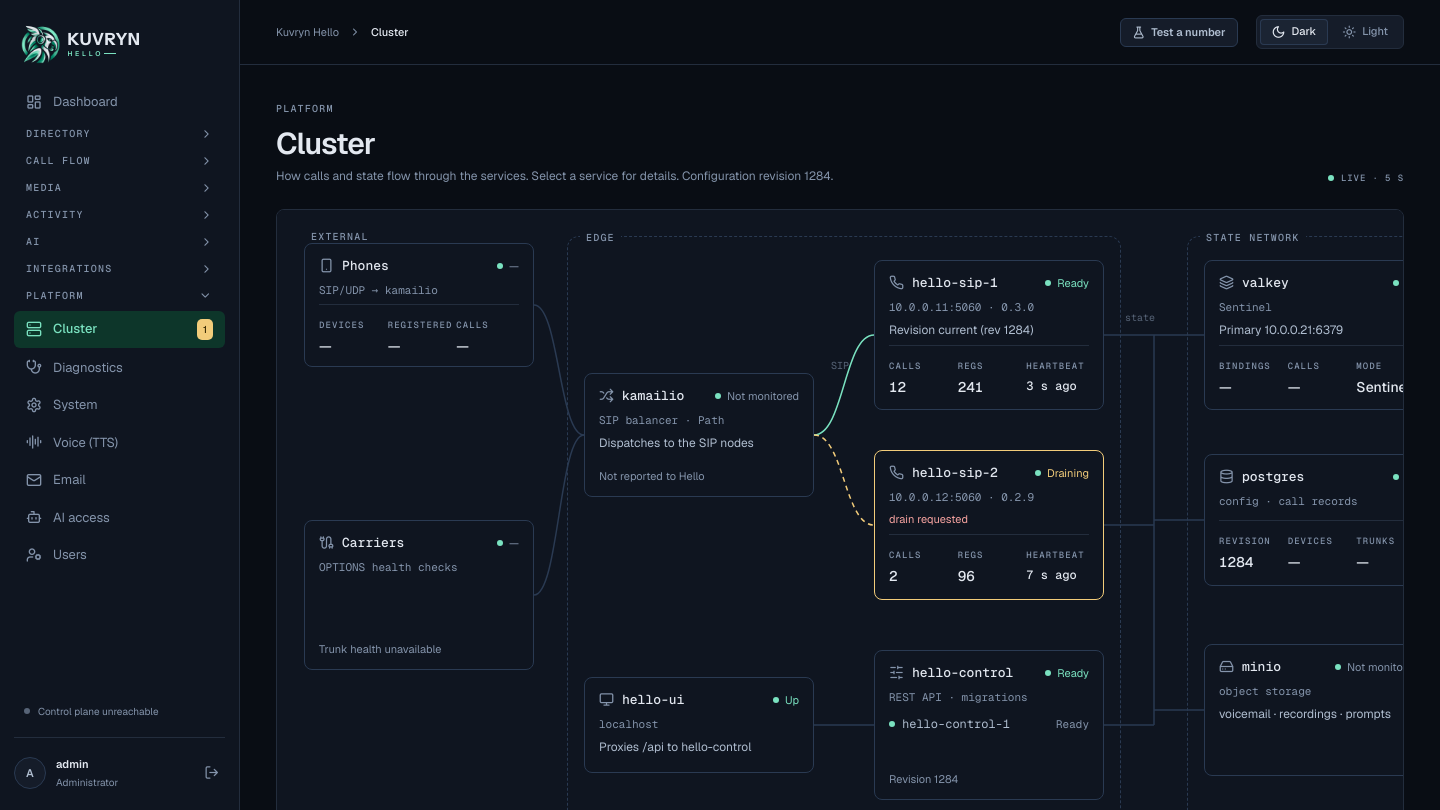
it: Cluster › draws every node with its state and load, and the dependencies
Expected: the button with aria-label "hello-sip-1: Ready" shows "10.0.0.11:5060 · 0.3.0", [874,260,1104,410]
Expected: the button with aria-label "hello-sip-1: Ready" shows "Revision current (rev 1284)", [874,260,1104,410]
Click the button with aria-label "hello-sip-2: Draining" at [989, 525], box [874,450,1104,600]
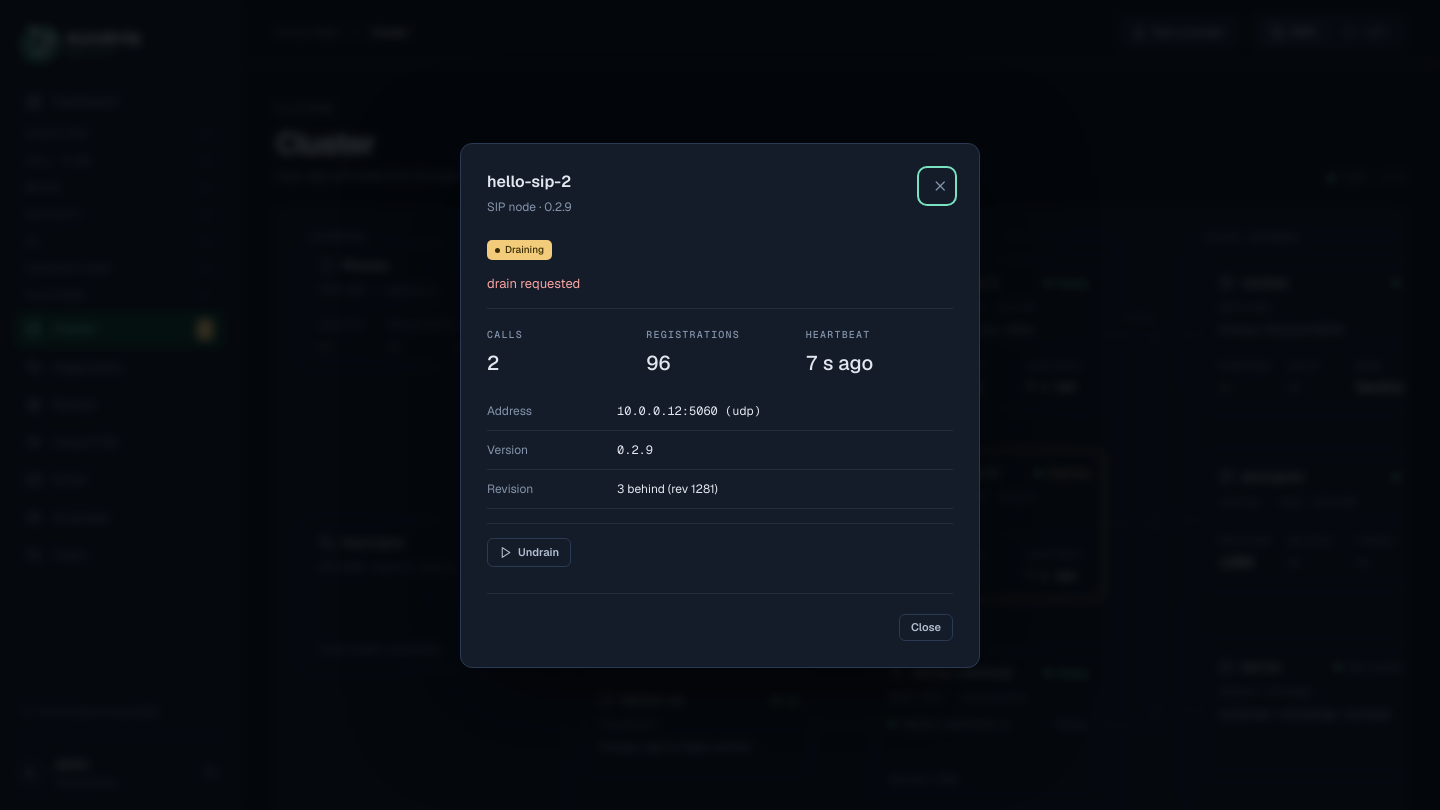
Expected: the text "SIP node · 0.2.9" is shown, [487,198,572,216]
Expected: the text "Draining" is shown, [487,240,552,260]
Expected: the text "drain requested" is shown, [487,275,580,292]
Click the button "Close" at [926, 627], box [899,614,953,640]
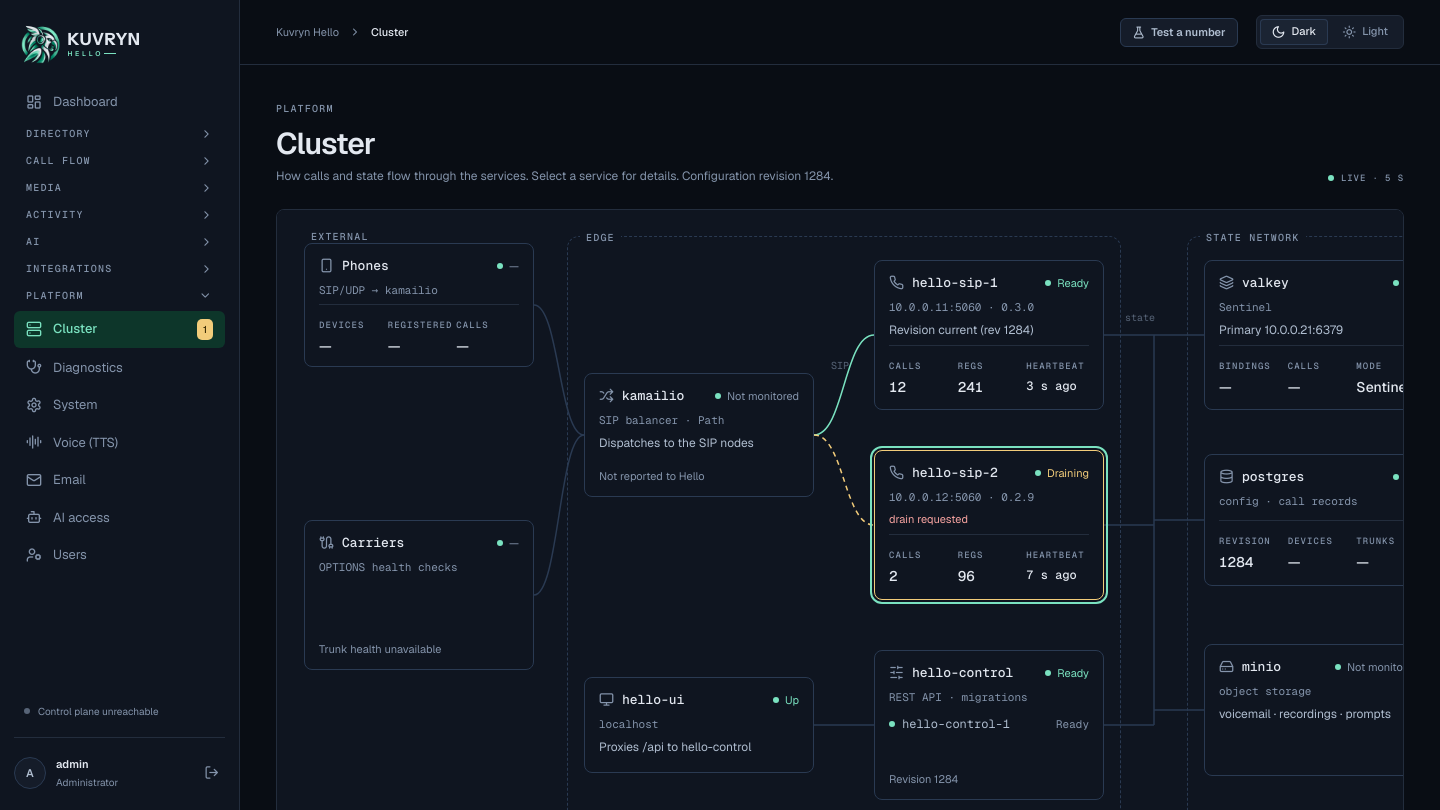
Expected: the dialog is gone
